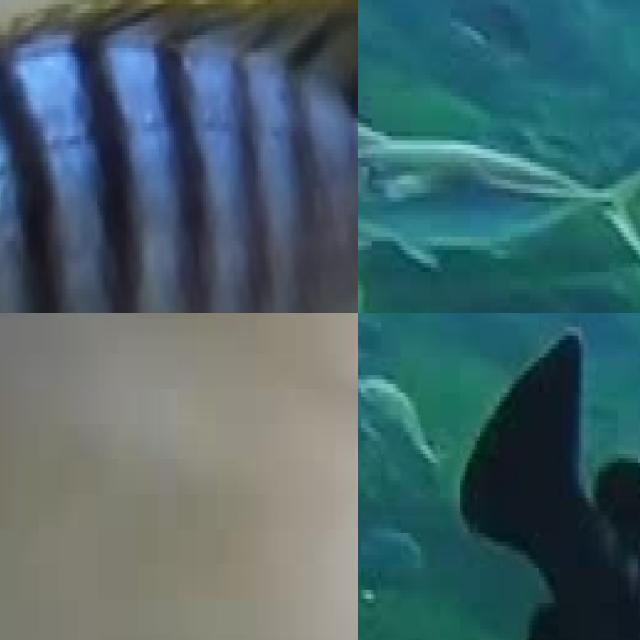fish: (0, 0, 358, 313), (477, 379, 640, 640)
